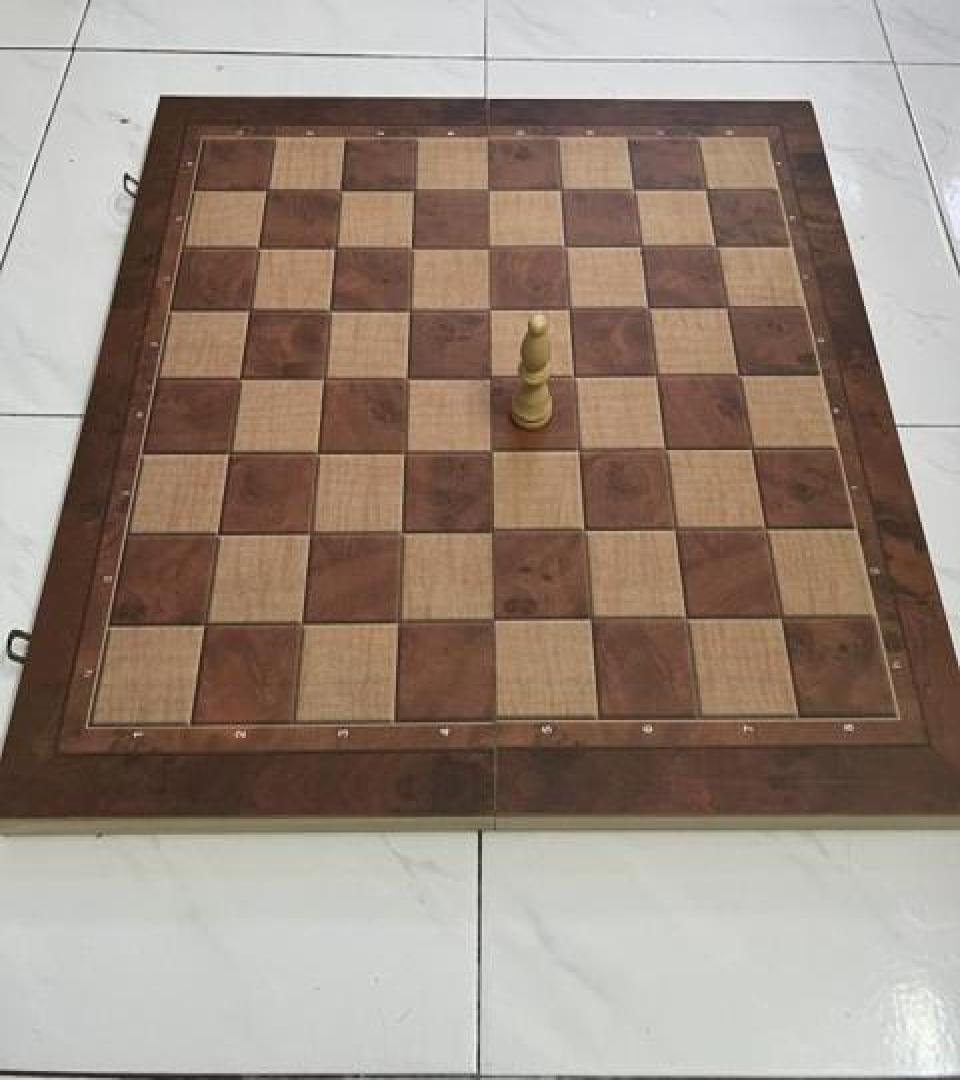xcorner: (709, 291, 743, 330), (630, 291, 664, 330), (551, 291, 585, 330), (471, 291, 505, 330), (392, 291, 426, 330), (312, 291, 346, 330), (232, 291, 266, 330), (688, 172, 722, 210), (616, 172, 650, 210), (542, 172, 576, 210), (469, 172, 503, 210), (396, 172, 430, 210), (322, 172, 356, 210), (248, 171, 282, 209), (698, 230, 732, 268), (622, 230, 656, 268), (547, 230, 581, 268), (470, 230, 504, 268), (394, 230, 428, 268), (317, 230, 351, 268), (240, 228, 274, 266), (720, 359, 754, 397), (638, 359, 672, 397), (556, 359, 590, 397), (473, 359, 507, 397), (390, 359, 424, 397), (306, 359, 340, 397), (223, 359, 257, 397), (733, 432, 767, 470), (647, 432, 681, 470), (561, 432, 595, 470), (474, 432, 508, 470), (387, 433, 421, 471), (300, 433, 334, 471), (212, 433, 246, 471), (747, 512, 781, 550), (657, 513, 691, 551), (566, 513, 600, 551), (476, 513, 510, 551), (384, 514, 418, 552), (293, 514, 327, 552), (201, 514, 235, 552), (762, 601, 796, 639), (668, 601, 702, 639), (573, 602, 607, 640), (477, 602, 511, 640), (382, 603, 416, 641), (285, 603, 319, 641), (189, 604, 223, 642)
